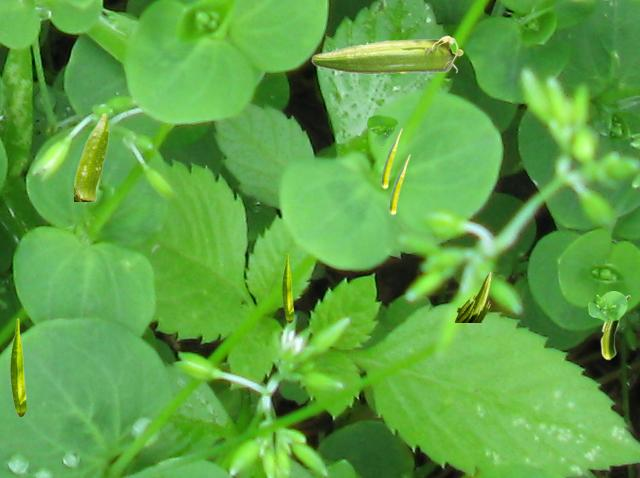okra: (311, 35, 462, 73), (74, 112, 108, 200), (600, 295, 629, 359), (454, 271, 491, 321), (10, 318, 26, 416), (389, 154, 409, 214), (381, 128, 401, 188), (282, 253, 293, 322)
